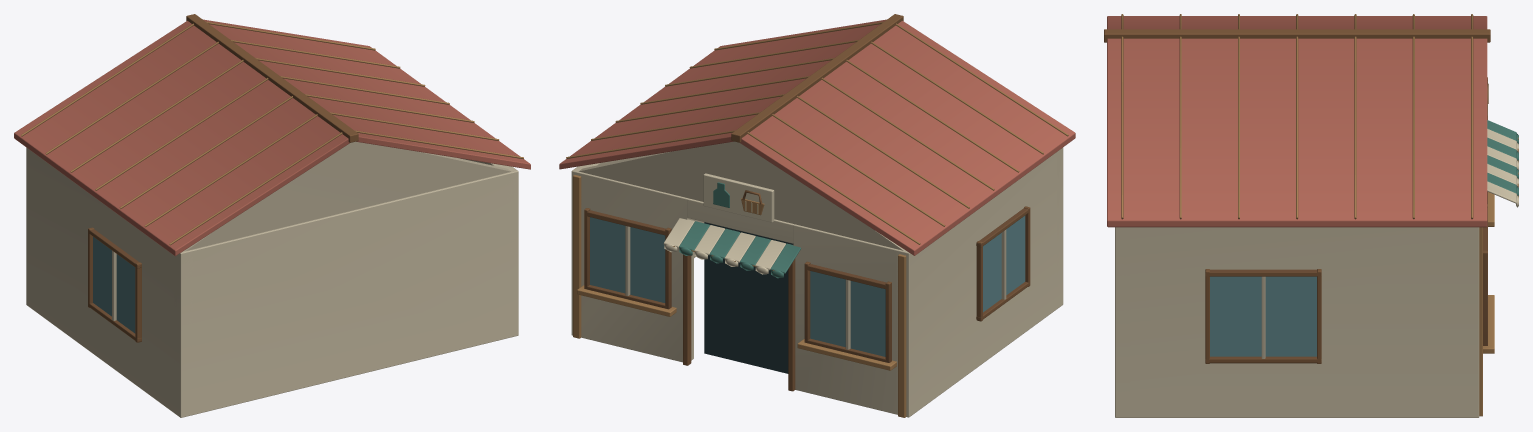
The model's file is store_exterior.glb.
The picture shows the model from 3 angles, left to right: view 1: azimuth 30°, elevation 25°; view 2: azimuth 150°, elevation 25°; view 3: azimuth 270°, elevation 25°; orthographic projection. The views are drawn at different scales.
Bounding box in the file's own units: 7 × 4.62 × 6.
